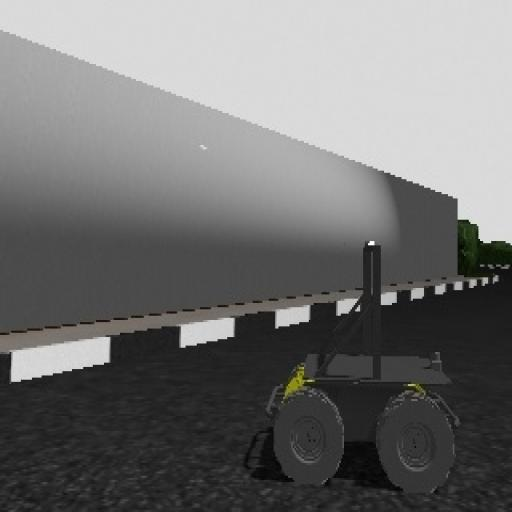huskya200: (252, 225, 472, 503)
